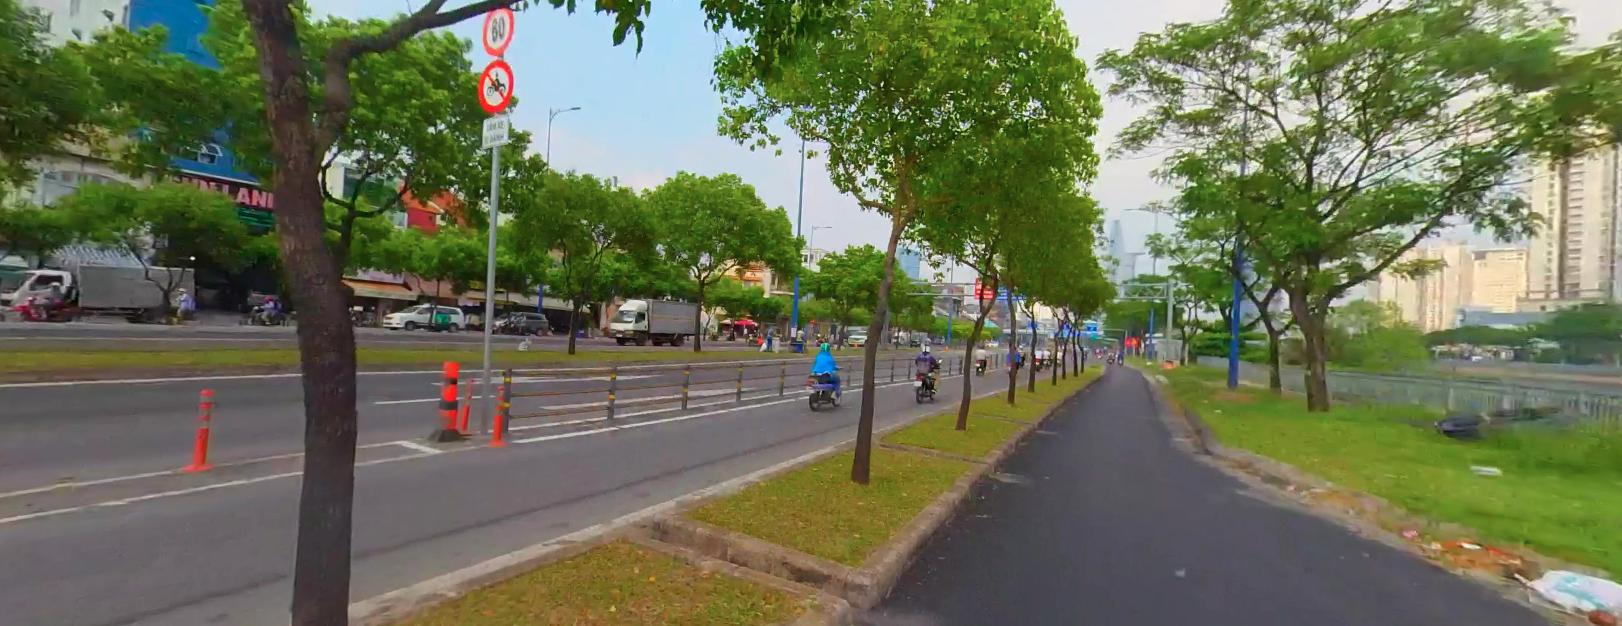Cam con lai: (478, 61, 513, 112)
Gioi han toc do: (480, 5, 513, 53)
Nguy hiem: (1130, 335, 1136, 343)
